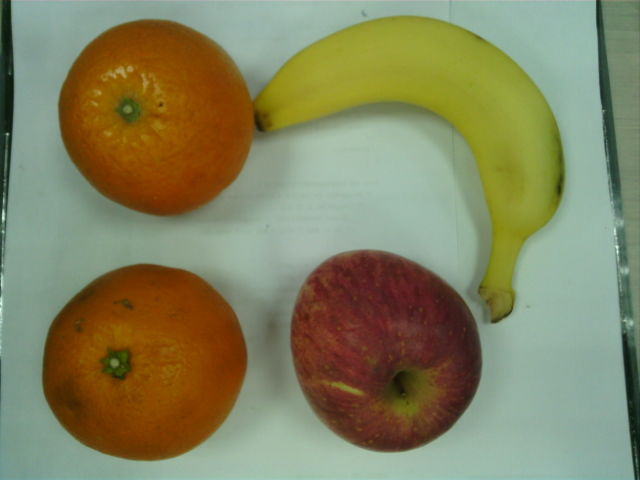normal_apple: (293, 249, 483, 454)
normal_banana: (252, 17, 565, 323)
normal_orange: (44, 265, 248, 460), (58, 19, 251, 217)
